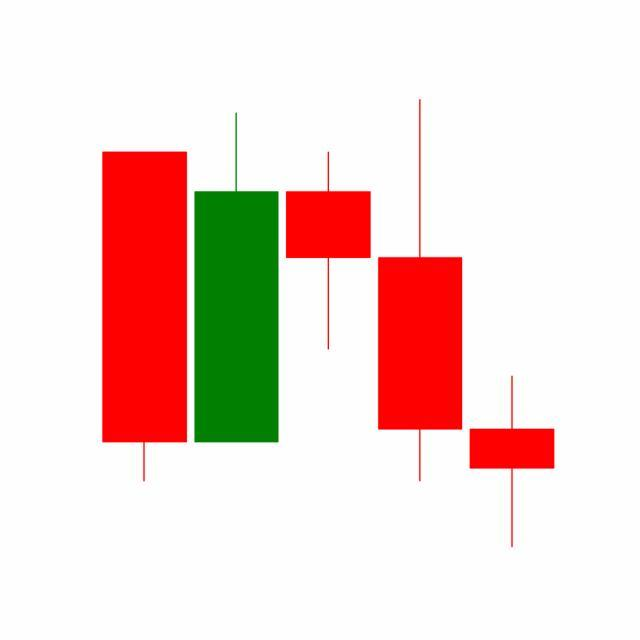Spinning Top: (466, 374, 559, 550)
